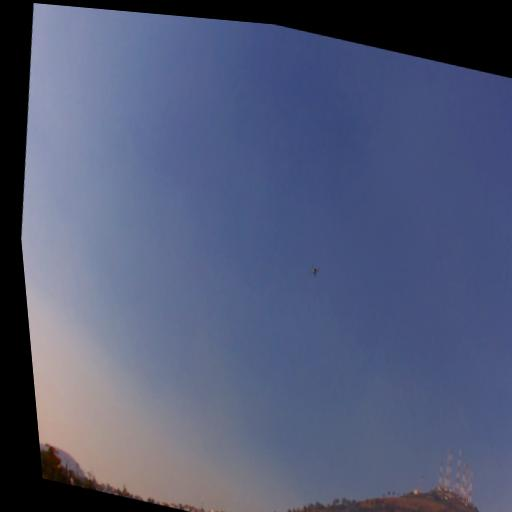drones: (305, 258, 324, 284)
